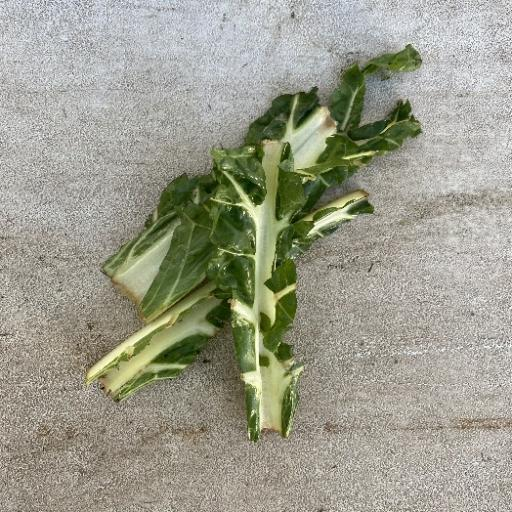Waste: (84, 42, 424, 443)
